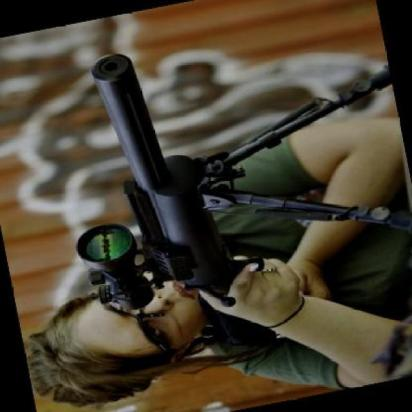Gun: (81, 51, 312, 308)
